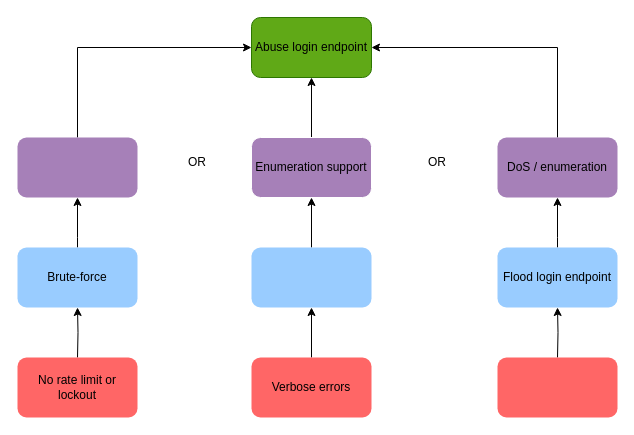
Image size: 634x435. Some labels were removed from this diagram. The shapes that lost their labels are listed below. From the top down, each one's box as (x1, y1, x2, y2) in pixels, then its label:
(17, 137, 137, 197): Credential attacks
(251, 247, 371, 307): Probe errors
(497, 357, 617, 417): No request throttling
